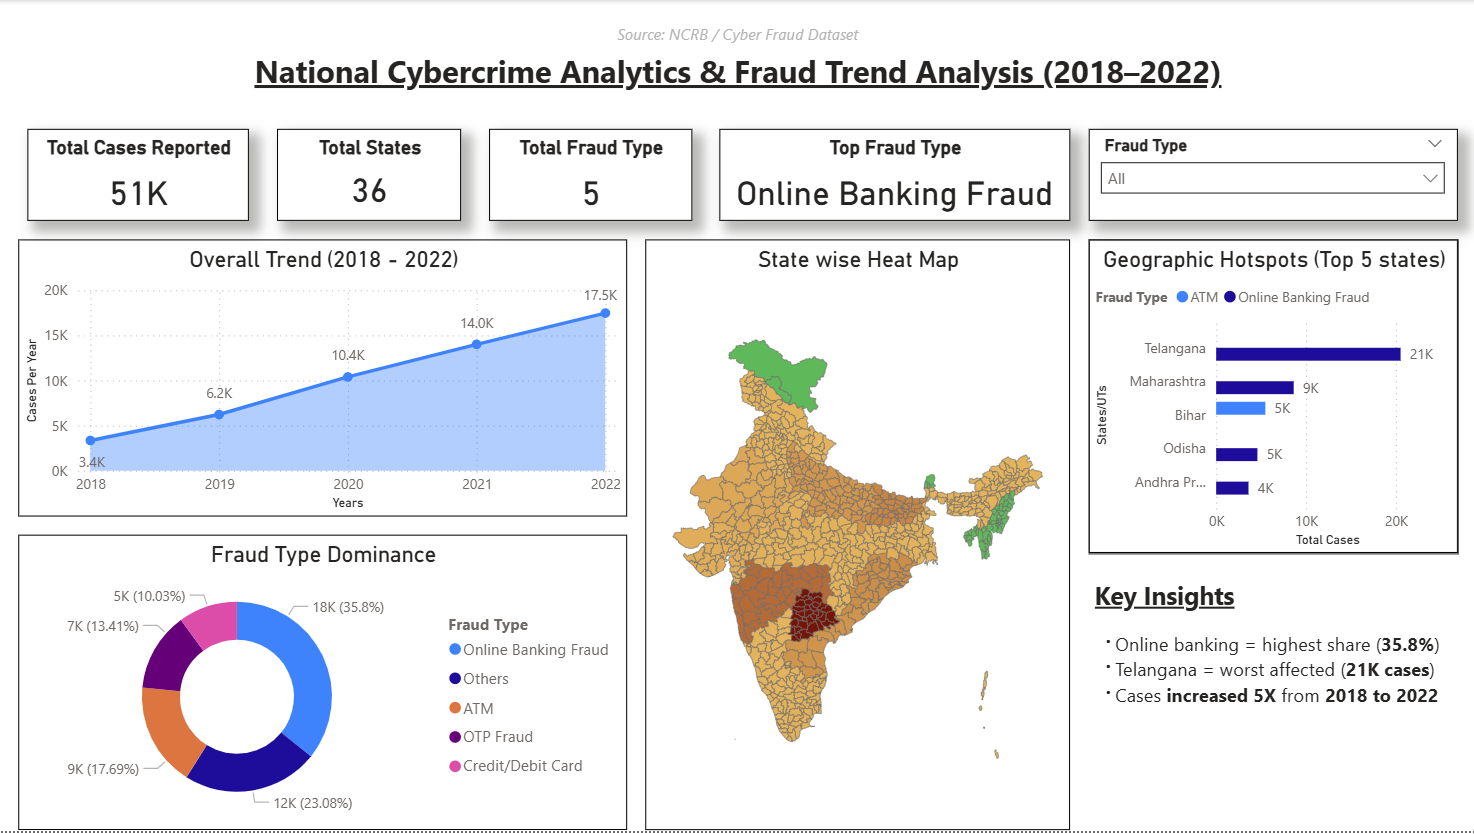

What the dashboard file says about the page in this screenshot:
{"tool":"powerbi","page":{"name":"Page 1","canvas":[1280,720],"ordinal":0},"visuals":[{"type":"clusteredBarChart","title":"Geographic Hotspots (Top 5 states)","fields":{"Category":["cases_by_state.state_ut"],"Y":["Sum(cases_by_state.Total_Cases)"],"Series":["top_fraud_per_state_5.top_fraud_type"]},"box":[944,208,320,272],"z":0},{"type":"areaChart","title":"Overall Trend (2018 - 2022)","fields":{"Category":["year_over_year_trend.crime_year"],"Y":["Sum(year_over_year_trend.Cases_Per_Year)"]},"box":[16,208,528,240],"z":1000},{"type":"donutChart","title":"Fraud Type Dominance","fields":{"Category":["breakdown_by_fraud_desc.fraud_desc"],"Y":["Sum(breakdown_by_fraud_desc.Total_Cases_by_description)"]},"box":[16,464,528,256],"z":2000},{"type":"textbox","box":[0,16,1280,80],"z":3000},{"type":"card","title":"Total States","fields":{"Values":["Sum(Total Cases.Total States)"]},"box":[240,112,160,80],"z":4000},{"type":"card","title":"Total Cases Reported","fields":{"Values":["Sum(Total Cases.Total_Cases_Reported)"]},"box":[24,112,192,80],"z":5000},{"type":"card","title":"Total Fraud Type","fields":{"Values":["Sum(Total Cases.Total Fraud Types)"]},"box":[424,112,176,80],"z":6000},{"type":"card","title":"Top Fraud Type","fields":{"Values":["Min(Totals.Top Fraud Type)"]},"box":[624,112,304,80],"z":7000},{"type":"shapeMap","title":"State wise Heat Map","fields":{"Category":["total cases per state.state_ut"],"Value":["Sum(all_fraud_type_per_state_cases.total_cases)"]},"box":[560,208,368,512],"z":8000},{"type":"slicer","fields":{"Values":["Top_Fraud_Type_per_State.fraud_desc"]},"box":[944,112,320,80],"z":9000},{"type":"textbox","box":[944,496,320,224],"z":9001}]}

Visuals, with their boxes in screenshot pixels (x1, y1, x2, y2), scaled from the page's 1280x720 canvas onto the 1474x834 screenshot:
"Geographic Hotspots (Top 5 states)" clusteredBarChart: [1087, 241, 1456, 556]
"Overall Trend (2018 - 2022)" areaChart: [18, 241, 626, 519]
"Fraud Type Dominance" donutChart: [18, 537, 626, 833]
textbox: [0, 19, 1473, 111]
"Total States" card: [276, 130, 461, 222]
"Total Cases Reported" card: [28, 130, 249, 222]
"Total Fraud Type" card: [488, 130, 691, 222]
"Top Fraud Type" card: [719, 130, 1069, 222]
"State wise Heat Map" shapeMap: [645, 241, 1069, 833]
slicer - Top_Fraud_Type_per_State.fraud_desc: [1087, 130, 1456, 222]
textbox: [1087, 575, 1456, 833]
